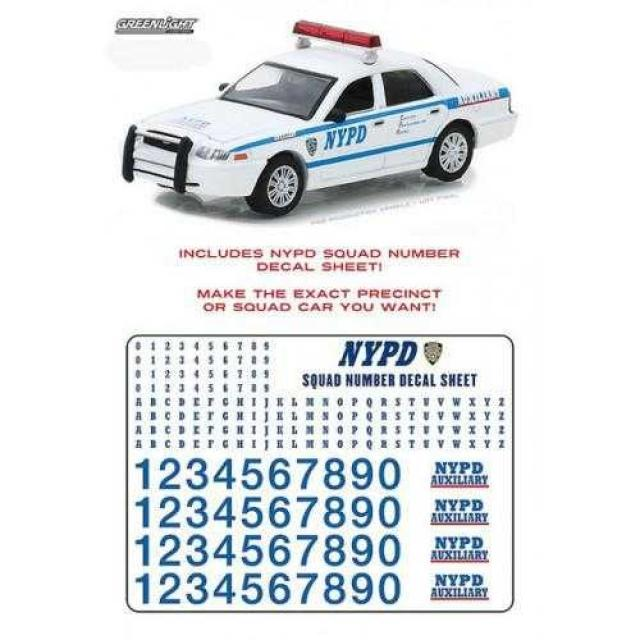firetruck: (118, 25, 523, 215)
